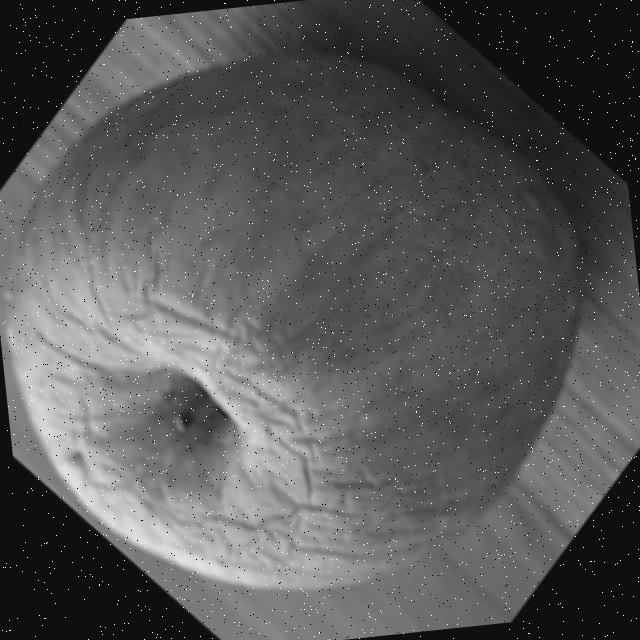overripe: (0, 20, 618, 622)
